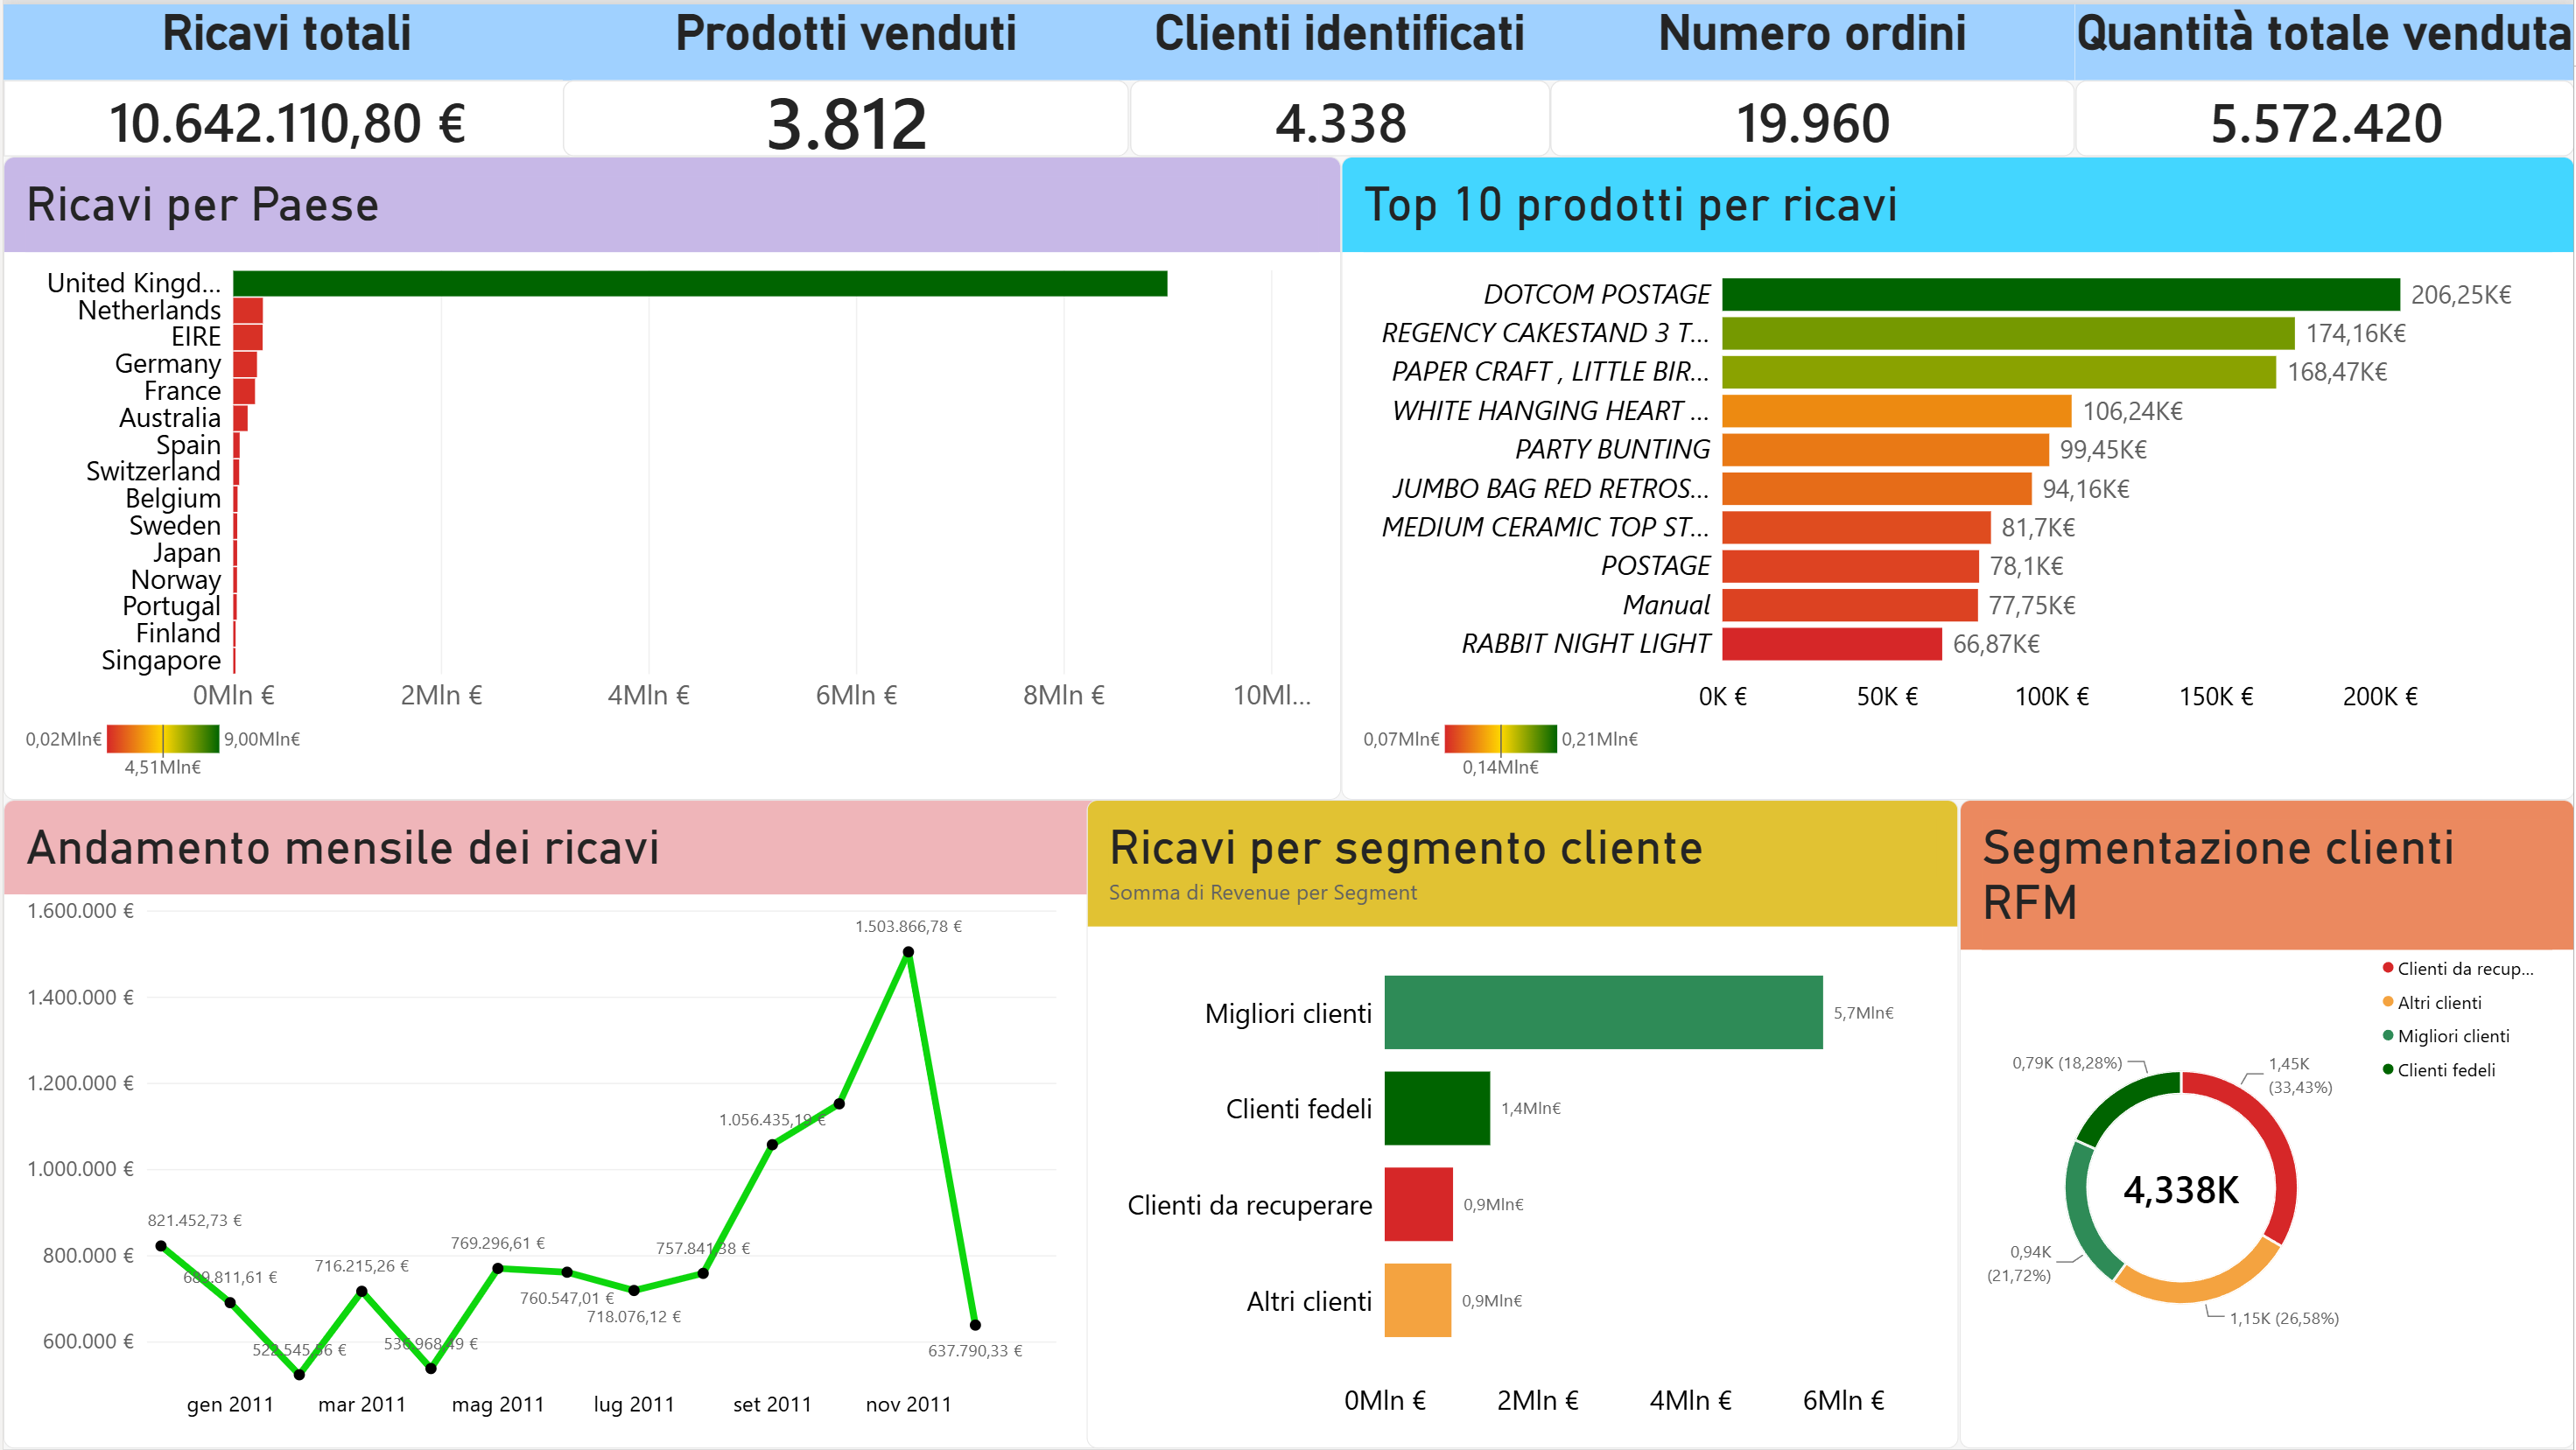

This screenshot's page, from the dashboard's own definition file:
{"tool":"powerbi","page":{"name":"Panoramica Vendite","canvas":[1920,1080],"ordinal":0},"visuals":[{"type":"cardVisual","title":"Ricavi totali","fields":{"Data":["Sum(vendite_pulite.Revenue)"]},"box":[0,0,423.8,113.9],"z":0},{"type":"cardVisual","title":"Numero ordini","fields":{"Data":["Count(vendite_pulite.InvoiceNo)"]},"box":[1155.4,0,392.2,113.9],"z":1000},{"type":"cardVisual","title":"Prodotti venduti","fields":{"Data":["Count(vendite_pulite.StockCode)"]},"box":[417.5,0,423.8,113.9],"z":2000},{"type":"cardVisual","title":"Clienti identificati","fields":{"Data":["vendite_pulite.Clienti identificati"]},"box":[841.2,0,314.1,113.9],"z":3000},{"type":"cardVisual","title":"Quantità totale venduta","fields":{"Data":["Sum(vendite_pulite.Quantity)"]},"box":[1547.5,0,373.2,113.9],"z":4000},{"type":"clusteredBarChart","title":"Ricavi per Paese","fields":{"Category":["vendite_pulite.Country"],"Y":["Sum(vendite_pulite.Revenue)"]},"box":[0,113.9,999.4,480.7],"z":5000},{"type":"lineChart","title":"Andamento mensile dei ricavi","fields":{"Category":["vendite_pulite.Mese"],"Y":["Sum(vendite_pulite.Revenue)"]},"box":[0,594.6,826.5,484.9],"z":5001},{"type":"clusteredBarChart","title":"Top 10 prodotti per ricavi","fields":{"Category":["vendite_pulite.Description"],"Y":["Sum(vendite_pulite.Revenue)"]},"box":[999.4,113.9,921.4,480.7],"z":5002},{"type":"donutChart","title":"Segmentazione clienti RFM","fields":{"Category":["clienti_rfm.Segment"],"Y":["Count(clienti_rfm.CustomerID)"]},"box":[1461.1,594.6,459.6,484.9],"z":5003},{"type":"clusteredBarChart","title":"Ricavi per segmento cliente","fields":{"Category":["clienti_rfm.Segment"],"Y":["Sum(vendite_pulite.Revenue)"]},"box":[809.6,594.6,651.5,484.9],"z":5004}]}

Visuals, with their boxes in screenshot pixels (x1, y1, x2, y2), scaled from the page's 1920x1080 canvas onto the 2576x1450 screenshot:
"Ricavi totali" cardVisual: {"x1": 0, "y1": 0, "x2": 569, "y2": 153}
"Numero ordini" cardVisual: {"x1": 1550, "y1": 0, "x2": 2076, "y2": 153}
"Prodotti venduti" cardVisual: {"x1": 560, "y1": 0, "x2": 1129, "y2": 153}
"Clienti identificati" cardVisual: {"x1": 1128, "y1": 0, "x2": 1550, "y2": 153}
"Quantità totale venduta" cardVisual: {"x1": 2076, "y1": 0, "x2": 2575, "y2": 153}
"Ricavi per Paese" clusteredBarChart: {"x1": 0, "y1": 153, "x2": 1341, "y2": 798}
"Andamento mensile dei ricavi" lineChart: {"x1": 0, "y1": 798, "x2": 1109, "y2": 1449}
"Top 10 prodotti per ricavi" clusteredBarChart: {"x1": 1341, "y1": 153, "x2": 2575, "y2": 798}
"Segmentazione clienti RFM" donutChart: {"x1": 1961, "y1": 798, "x2": 2575, "y2": 1449}
"Ricavi per segmento cliente" clusteredBarChart: {"x1": 1086, "y1": 798, "x2": 1961, "y2": 1449}
